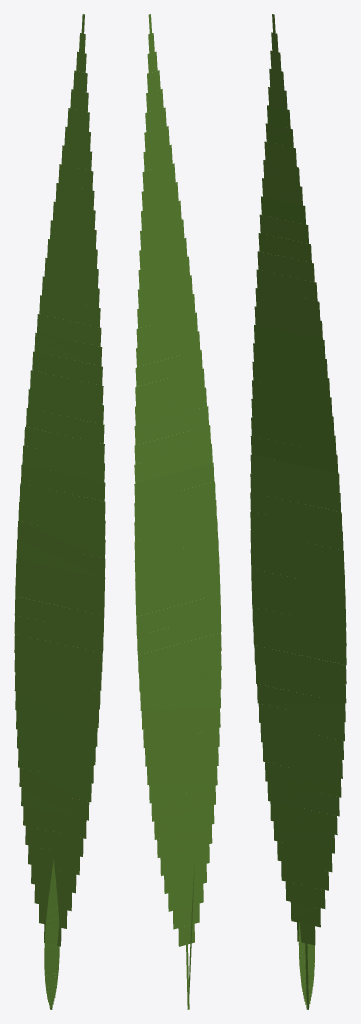
The model's file is maize_003_day_025.dae.
The picture shows the model from 3 angles, left to right: view 1: azimuth 90°, elevation 25°; view 2: azimuth 150°, elevation 25°; view 3: azimuth 270°, elevation 25°; orthographic projection. The views are drawn at different scales.
Parts seen in each view (by area): view 1: node; view 2: node; view 3: node.
Part boxes in pixels (x1=…): node: x1=14, y1=14, x2=105, y2=1009; node: x1=134, y1=14, x2=221, y2=1009; node: x1=250, y1=14, x2=346, y2=1009.
Size of the model in its own units: 0.01 by 0.1432 by 0.0122.
1 material, 1 textured.
